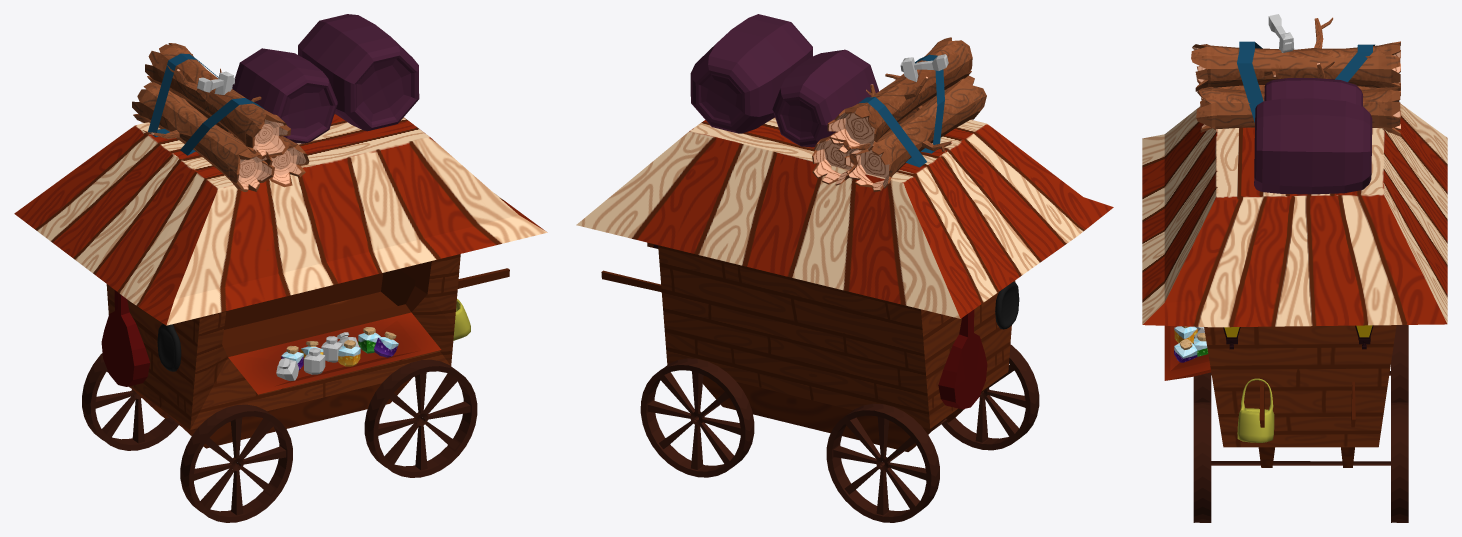
The model's file is carroça com texturas.fbx.
The picture shows the model from 3 angles, left to right: view 1: azimuth 30°, elevation 25°; view 2: azimuth 150°, elevation 25°; view 3: azimuth 270°, elevation 25°; orthographic projection.
Parts seen in each view (by area): view 1: carroça, rodas, troncos, barril.001, barril, bandolim, laço2, mesma textura, frigideira, laço; view 2: carroça, rodas, troncos, barril.001, barril, bandolim, laço2, mesma textura, frigideira, laço, machado; view 3: carroça, barril.001, troncos, rodas, barril, balde, laço, cabo das rodas, laço2, mesma textura, machado, poçao, duplicar depois.008.
Boxes of the visible parts, x1,y1,x2,y2 form: carroça: [14, 114, 547, 448]; rodas: [82, 353, 477, 522]; troncos: [132, 43, 309, 191]; barril.001: [298, 14, 419, 131]; barril: [232, 48, 337, 143]; bandolim: [101, 290, 149, 386]; laço2, mesma textura: [148, 53, 218, 137]; frigideira: [157, 324, 181, 371]; laço: [180, 98, 264, 155]; carroça: [576, 117, 1113, 451]; rodas: [640, 344, 1039, 522]; troncos: [812, 37, 986, 191]; barril.001: [690, 14, 812, 133]; barril: [772, 49, 878, 147]; bandolim: [938, 309, 987, 409]; laço2, mesma textura: [858, 97, 926, 167]; frigideira: [995, 281, 1019, 329]; laço: [915, 54, 944, 153]; machado: [900, 54, 948, 81]; carroça: [1142, 103, 1447, 467]; barril.001: [1254, 98, 1372, 194]; troncos: [1191, 17, 1400, 136]; rodas: [1193, 325, 1408, 522]; barril: [1264, 78, 1363, 106]; balde: [1237, 378, 1274, 442]; laço: [1237, 41, 1263, 122]; cabo das rodas: [1211, 371, 1390, 465]; laço2, mesma textura: [1335, 44, 1374, 81]; machado: [1268, 14, 1294, 52]; poçao, duplicar depois.008: [1174, 339, 1197, 362].
Bounding box in the file's own units: 841 × 824 × 551.
